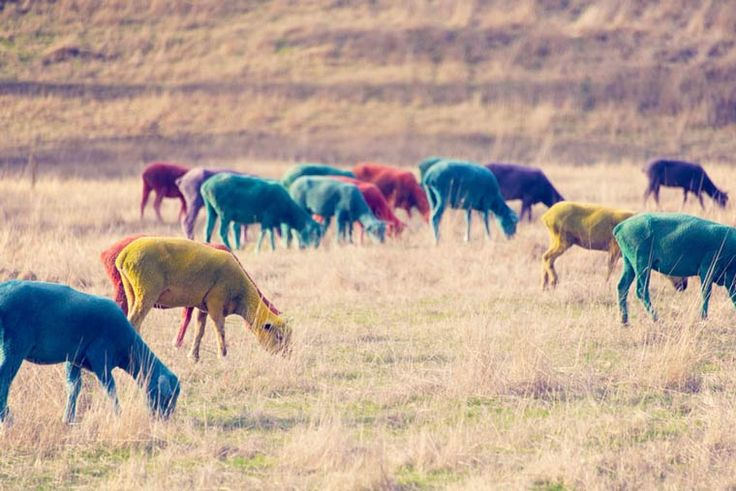sheep: (1, 280, 182, 428), (112, 237, 298, 366), (610, 209, 736, 324), (539, 194, 647, 297), (198, 170, 323, 255), (423, 157, 520, 244), (288, 167, 391, 244), (353, 154, 450, 234), (484, 152, 570, 224), (643, 152, 732, 219)
